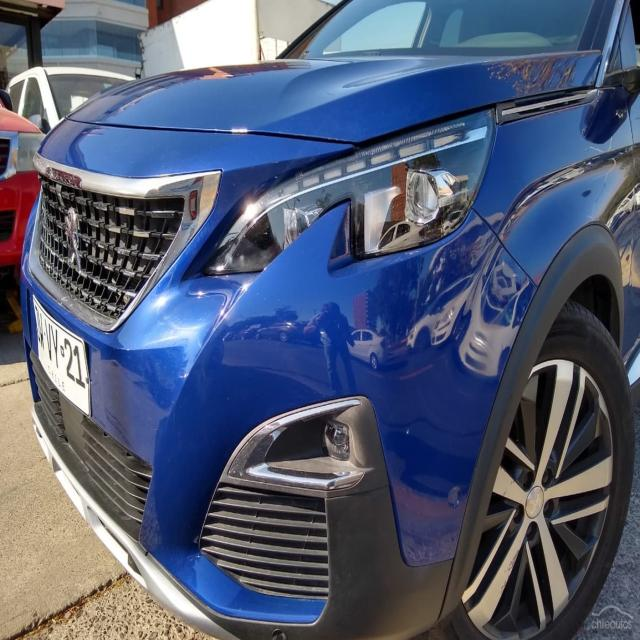patente: (31, 293, 91, 418)
